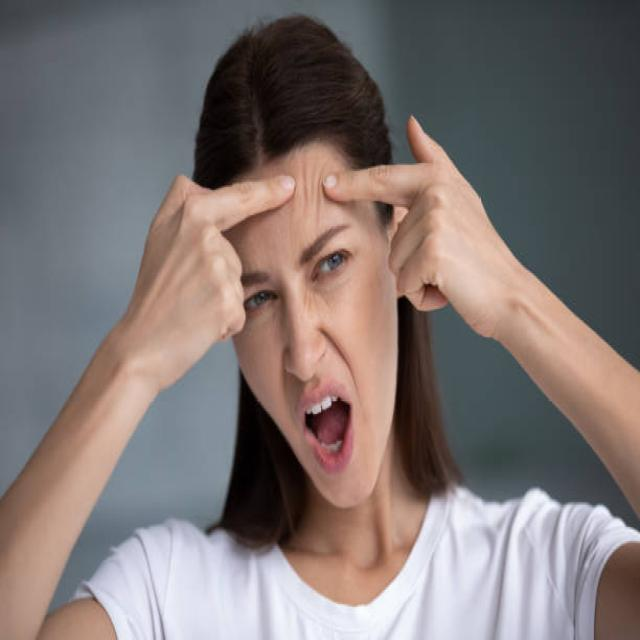Dry-Skin: (286, 158, 370, 245)
